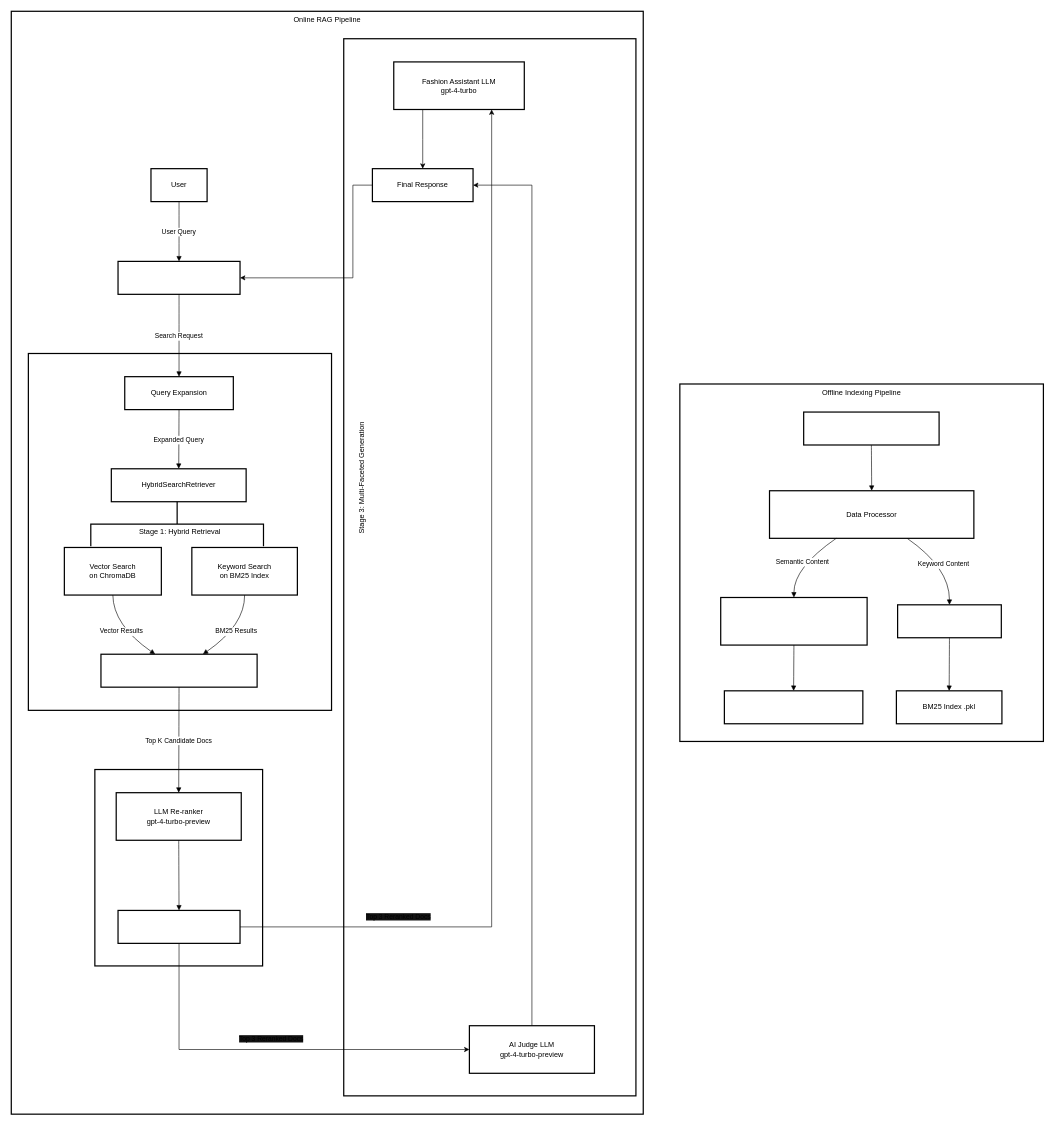
Image size: 1054x1125. Some labels were removed from this diagram. The centre of each missing label's shape, as x and y in pixels:
"BM25 Tokenizer" belongs at (x=949, y=621).
"ChromaDB Vector Store" belongs at (x=793, y=707).
"Fashion Dataset v2.csv" belongs at (x=871, y=428).
"HuggingFace Embeddings BAAI/bge-base-en-v1.5" belongs at (x=793, y=621).
"Reciprocal Rank Fusion RRF" belongs at (x=178, y=670).
"Reorder Documents" belongs at (x=178, y=927).
"Streamlit UI" belongs at (x=178, y=277).
